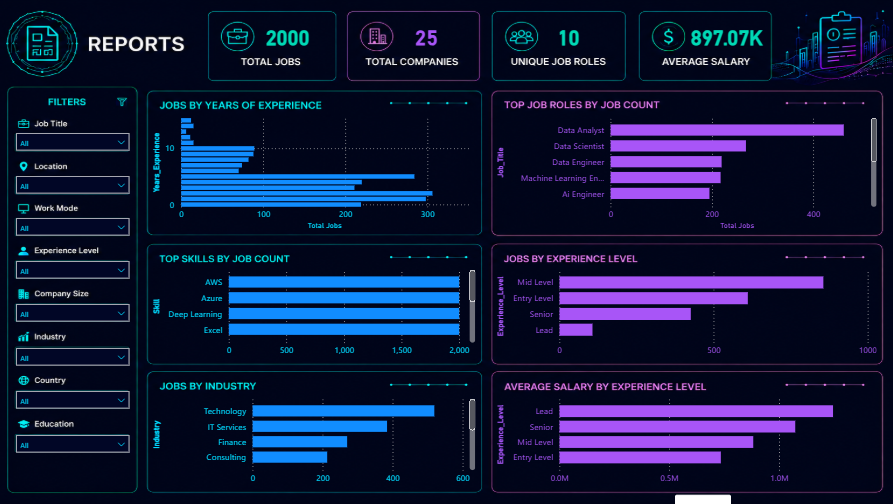

This screenshot's page, from the dashboard's own definition file:
{"tool":"powerbi","page":{"name":"Insights & Recommendations","canvas":[1280,720],"ordinal":6},"visuals":[{"type":"card","fields":{"Values":["ai_job_market job_market.Total Jobs"]},"box":[277.9,97.9,133.9,38.9],"z":0},{"type":"card","fields":{"Values":["ai_job_market job_market.Total Companies"]},"box":[530,98.9,131.7,38.3],"z":1000},{"type":"card","fields":{"Values":["ai_job_market job_market.Unique Job Roles"]},"box":[788.4,98.9,131.7,38.3],"z":2000},{"type":"card","fields":{"Values":["ai_job_market job_market.Average Salary"]},"box":[1041.1,98.9,131.7,38.3],"z":3000},{"type":"slicer","fields":{"Values":["ai_job_market job_market.Job_Title"]},"box":[10.6,167.1,194,46.9],"z":4000},{"type":"slicer","fields":{"Values":["ai_job_market job_market.Location"]},"box":[10.6,221.1,194,48],"z":5000},{"type":"slicer","fields":{"Values":["ai_job_market job_market.Work_Mode"]},"box":[10.6,276,194,48],"z":6000},{"type":"slicer","fields":{"Values":["ai_job_market job_market.Experience_Level"]},"box":[10.6,328.3,194,48],"z":7000},{"type":"slicer","fields":{"Values":["ai_job_market job_market.Company_Size"]},"box":[10.6,382,194,48],"z":8000},{"type":"slicer","fields":{"Values":["ai_job_market job_market.Country"]},"box":[10.6,434.9,194,48],"z":9000},{"type":"slicer","fields":{"Values":["ai_job_market job_market.Education"]},"box":[10.6,490.9,194,48],"z":10000},{"type":"clusteredBarChart","fields":{"Category":["ai_job_market job_market.Years_Experience"],"Y":["ai_job_market job_market.Total Jobs"]},"box":[218.4,174.7,470.3,137.7],"z":10001},{"type":"clusteredBarChart","fields":{"Category":["ai_job_market job_market.Industry"],"Y":["ai_job_market job_market.Total Jobs"]},"box":[218.4,490.5,470.3,87.3],"z":10002},{"type":"clusteredBarChart","fields":{"Category":["ai_job_market job_market.Job_Title"],"Y":["ai_job_market job_market.Total Jobs"]},"box":[703.8,174.7,564.4,137.7],"z":10003},{"type":"clusteredBarChart","fields":{"Category":["Skill Table.Skill"],"Y":["Skill Table.Skill Demand"]},"box":[218.8,341.2,470,117.5],"z":10004},{"type":"clusteredBarChart","fields":{"Category":["ai_job_market job_market.Experience_Level"],"Y":["ai_job_market job_market.Total Jobs"]},"box":[703.8,341.2,565,117.5],"z":10005},{"type":"clusteredBarChart","fields":{"Category":["ai_job_market job_market.Experience_Level"],"Y":["ai_job_market job_market.Average Salary"]},"box":[703.8,491.2,565,86.2],"z":10006}]}

Visuals, with their boxes in screenshot pixels (x1, y1, x2, y2), scaled from the page's 1280x720 canvas onto the 893x504 screenshot:
card - ai_job_market job_market.Total Jobs: crop(194, 69, 287, 96)
card - ai_job_market job_market.Total Companies: crop(370, 69, 462, 96)
card - ai_job_market job_market.Unique Job Roles: crop(550, 69, 642, 96)
card - ai_job_market job_market.Average Salary: crop(726, 69, 818, 96)
slicer - ai_job_market job_market.Job_Title: crop(7, 117, 143, 150)
slicer - ai_job_market job_market.Location: crop(7, 155, 143, 188)
slicer - ai_job_market job_market.Work_Mode: crop(7, 193, 143, 227)
slicer - ai_job_market job_market.Experience_Level: crop(7, 230, 143, 263)
slicer - ai_job_market job_market.Company_Size: crop(7, 267, 143, 301)
slicer - ai_job_market job_market.Country: crop(7, 304, 143, 338)
slicer - ai_job_market job_market.Education: crop(7, 344, 143, 377)
clusteredBarChart - ai_job_market job_market.Years_Experience x ai_job_market job_market.Total Jobs: crop(152, 122, 480, 219)
clusteredBarChart - ai_job_market job_market.Industry x ai_job_market job_market.Total Jobs: crop(152, 343, 480, 404)
clusteredBarChart - ai_job_market job_market.Job_Title x ai_job_market job_market.Total Jobs: crop(491, 122, 885, 219)
clusteredBarChart - Skill Table.Skill x Skill Table.Skill Demand: crop(153, 239, 481, 321)
clusteredBarChart - ai_job_market job_market.Experience_Level x ai_job_market job_market.Total Jobs: crop(491, 239, 885, 321)
clusteredBarChart - ai_job_market job_market.Experience_Level x ai_job_market job_market.Average Salary: crop(491, 344, 885, 404)
